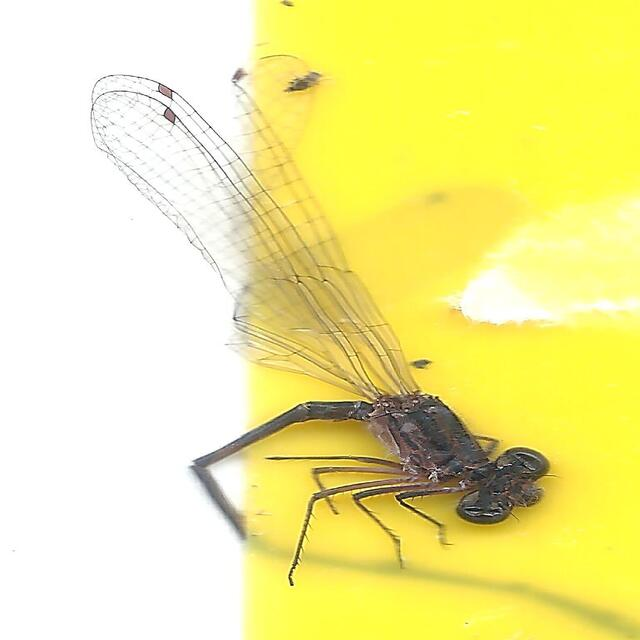Odonata: (83, 54, 557, 586)
